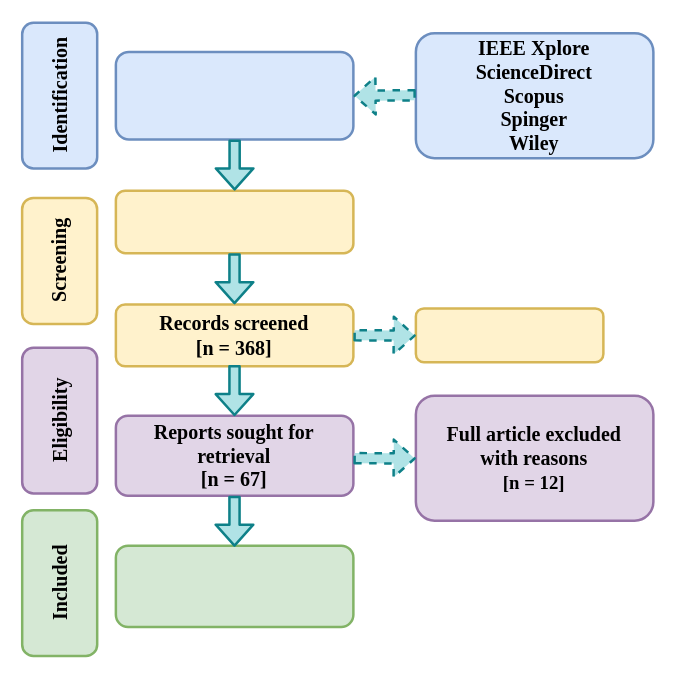
Image size: 678x679. Some labels were removed from this diagram. Here are the shapes that lost their labels. From the top down, the box of each, then its label:
(114, 50, 354, 140): Records identified from databases [n = 374]
(114, 189, 354, 254): Duplicates removed [n = 6]
(414, 306, 604, 363): Records excluded [n = 301]
(114, 544, 354, 628): Studies included for review [n = 55]
